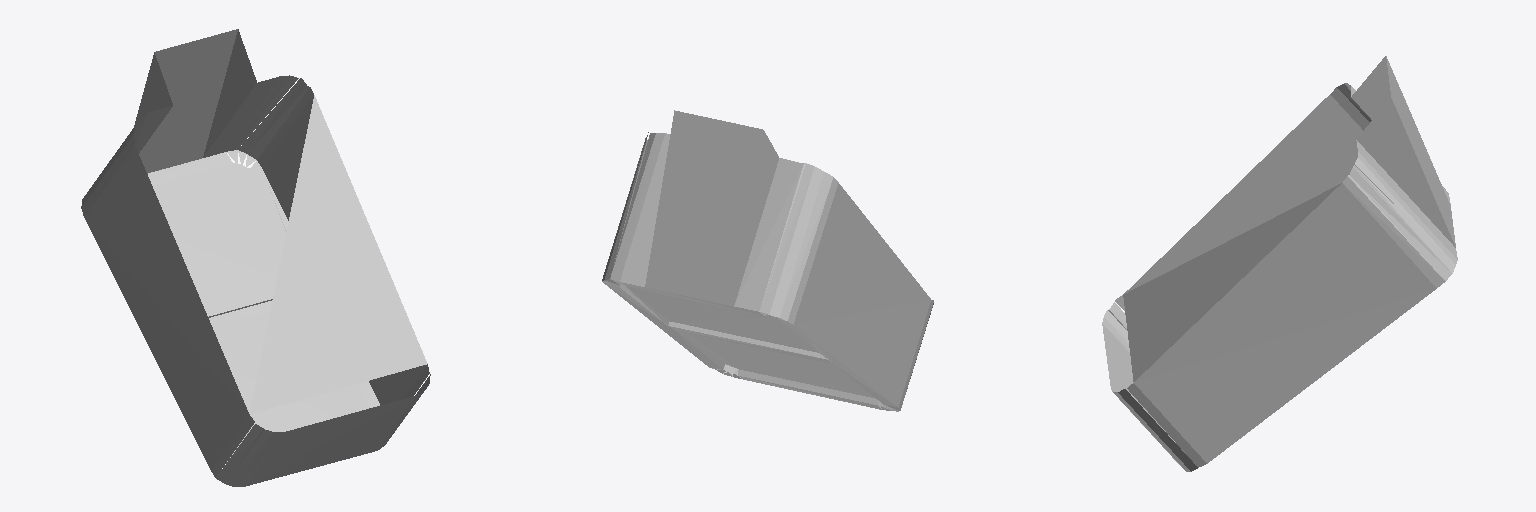
File: control_box_2.obj
3 renders of one model, left to right at view 1: azimuth 30°, elevation 25°; view 2: azimuth 150°, elevation 25°; view 3: azimuth 270°, elevation 25°, orthographic.
Parts seen in each view (by area): view 1: control_box_2; view 2: control_box_2; view 3: control_box_2.
Part boxes in pixels (left/top/right/bottom): control_box_2: left=81, top=29, right=430, bottom=486; control_box_2: left=602, top=110, right=933, bottom=411; control_box_2: left=1102, top=56, right=1457, bottom=471.
Size of the model in its own units: 0.0001 by 0.0002 by 0.0002.